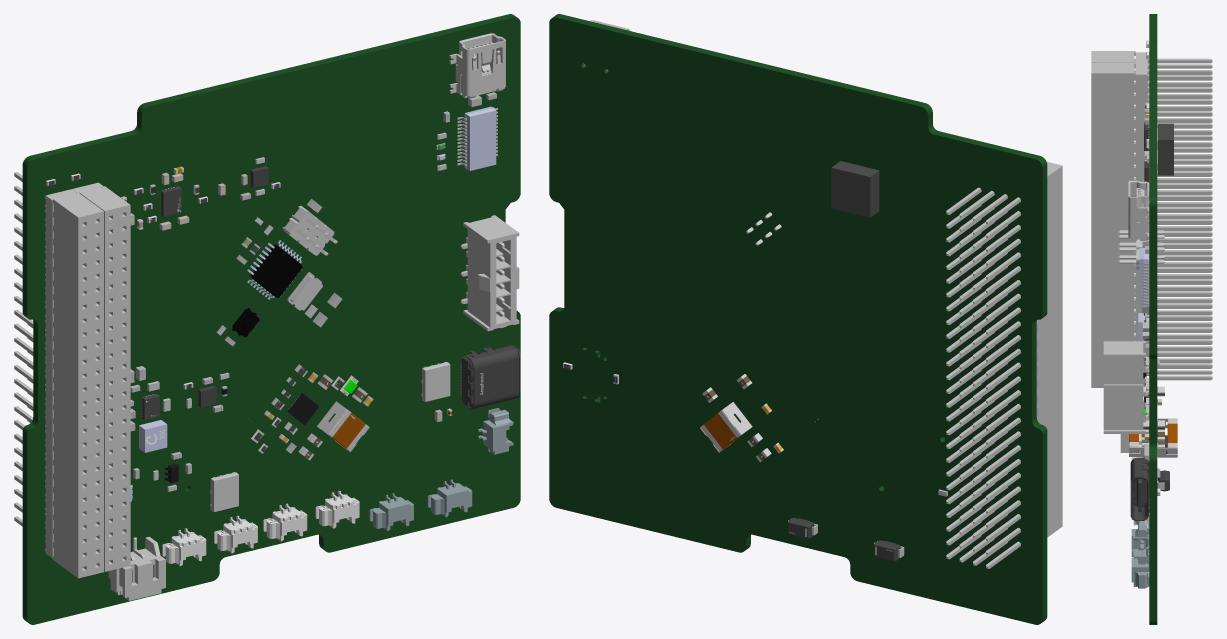
File: EPS_Board.glb
3 renders of one model, left to right at view 1: azimuth 30°, elevation 25°; view 2: azimuth 150°, elevation 25°; view 3: azimuth 270°, elevation 25°, orthographic. The views are drawn at different scales.
Parts seen in each view (by area): view 1: empty_2, empty_725, empty_722, empty_151, empty_152, empty_727, empty_336, empty_276, empty_726, empty_298, empty_374, empty_271 (+10 smaller); view 2: empty_2, empty_726, empty_725, empty_723, empty_191; view 3: empty_723, empty_722, empty_2, empty_726, empty_151, empty_724, empty_336, empty_152, empty_191, empty_717, empty_725, empty_298 (+4 smaller).
Boxes of the visible parts, x1,y1,x2,y2 form: empty_2: [22, 14, 520, 624]; empty_725: [53, 193, 103, 578]; empty_722: [79, 186, 130, 571]; empty_151: [460, 215, 519, 331]; empty_152: [460, 345, 520, 409]; empty_727: [45, 189, 76, 558]; empty_336: [449, 33, 505, 98]; empty_276: [108, 536, 165, 600]; empty_726: [14, 172, 33, 526]; empty_298: [464, 106, 496, 170]; empty_374: [250, 244, 302, 297]; empty_271: [427, 479, 472, 517]; empty_2: [549, 14, 1047, 624]; empty_726: [973, 194, 1020, 568]; empty_725: [1037, 162, 1062, 537]; empty_723: [946, 187, 994, 562]; empty_191: [831, 161, 879, 217]; empty_723: [1134, 70, 1212, 380]; empty_722: [1091, 62, 1135, 387]; empty_2: [1149, 14, 1157, 624]; empty_726: [1134, 58, 1212, 368]; empty_151: [1103, 341, 1149, 433]; empty_724: [1135, 63, 1148, 386]; empty_336: [1128, 180, 1149, 243]; empty_152: [1130, 457, 1149, 520]; empty_191: [1158, 123, 1173, 175]; empty_717: [1131, 523, 1149, 564]; empty_725: [1091, 51, 1135, 62]; empty_298: [1139, 248, 1148, 307].
Size of the model in its own units: 95.25 by 90.42 by 23.24.
